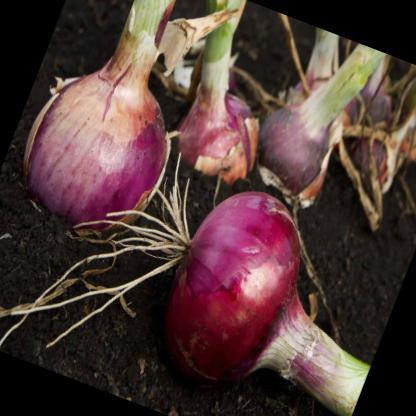onion: (133, 153, 341, 415)
